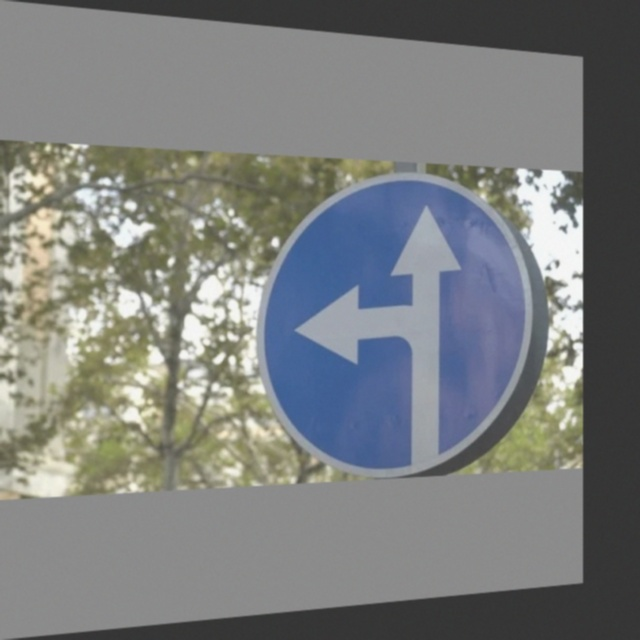Compulsory_Ahead_or_Turn_Left: (259, 167, 548, 476)
